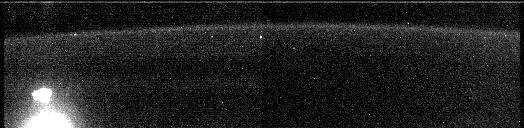positive: (28, 86, 55, 105)
